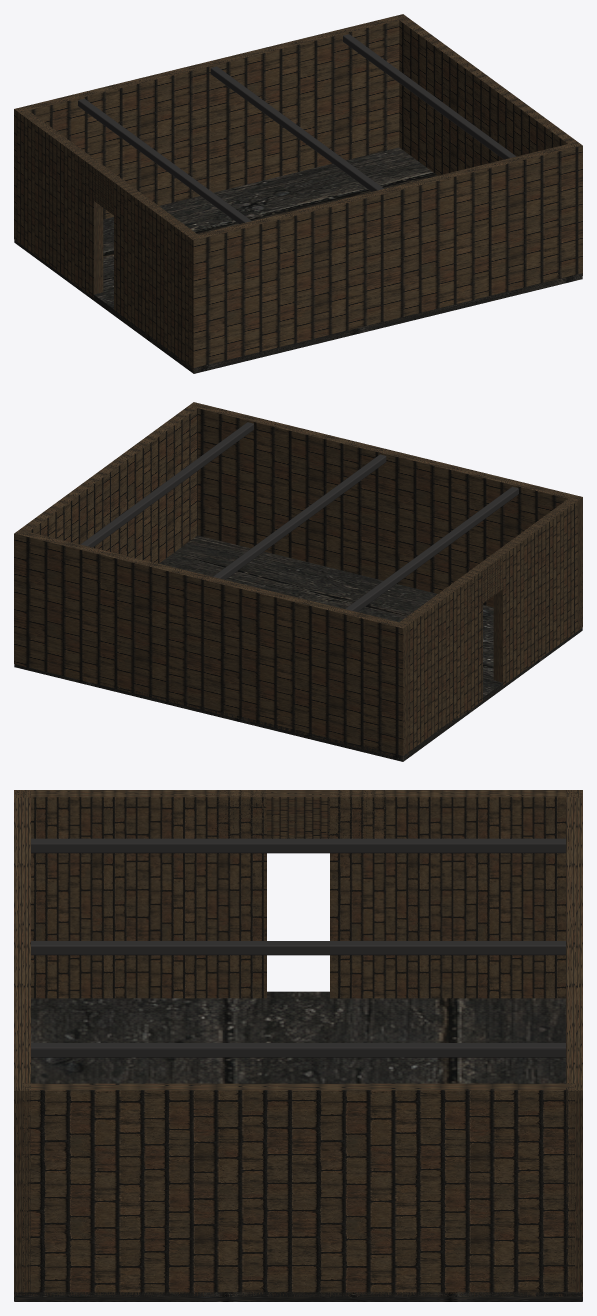
The model's file is room_shell.glb.
The picture shows the model from 3 angles, top to bottom: view 1: azimuth 30°, elevation 25°; view 2: azimuth 150°, elevation 25°; view 3: azimuth 270°, elevation 25°; orthographic projection. The views are drawn at different scales.
Visible parts, largest first — view 1: room_shell; view 2: room_shell; view 3: room_shell.
Part boxes in pixels (bbox=[...]): room_shell: bbox=[14, 14, 582, 373]; room_shell: bbox=[14, 402, 582, 761]; room_shell: bbox=[14, 790, 582, 1301].
Size of the model in its own units: 10 by 3.28 by 8.
3 materials, 2 textured.
